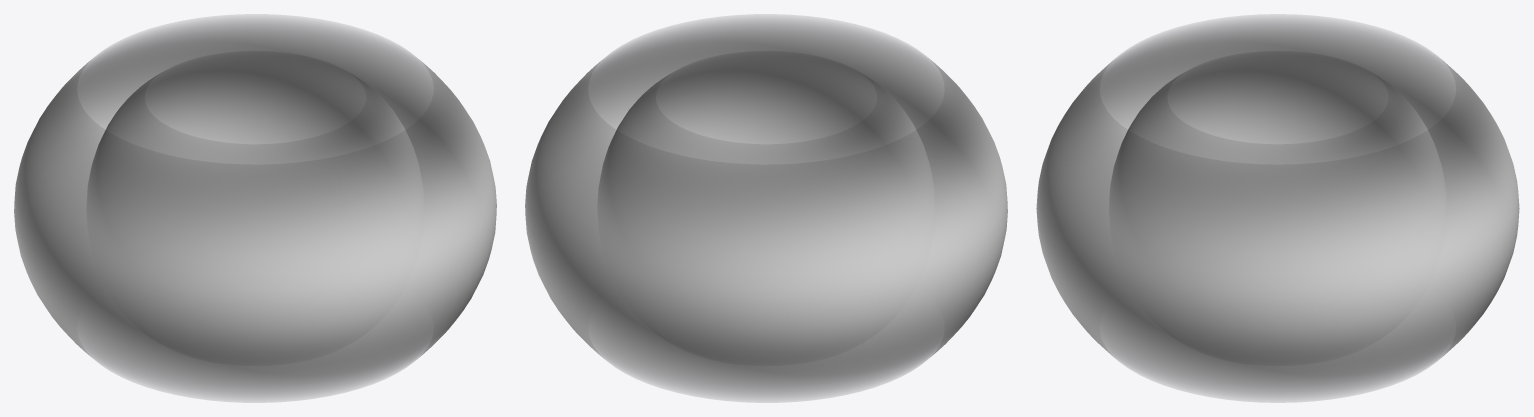
File: cylinder_background_02.glb
3 views of the same model, side by side, from view 1: azimuth 30°, elevation 25°; view 2: azimuth 150°, elevation 25°; view 3: azimuth 270°, elevation 25° (orthographic).
Visible parts, largest first — view 1: outerCylinder, innerCylinder; view 2: outerCylinder, innerCylinder; view 3: outerCylinder, innerCylinder.
Part boxes in pixels (x1,y1,x2,y2): outerCylinder: (14, 15, 496, 402); innerCylinder: (86, 51, 424, 253); outerCylinder: (525, 15, 1007, 402); innerCylinder: (597, 51, 935, 253); outerCylinder: (1036, 15, 1519, 402); innerCylinder: (1109, 51, 1446, 253).
Bounding box in the file's own units: 6.17 × 3.36 × 6.17.
1 material, 1 textured.
